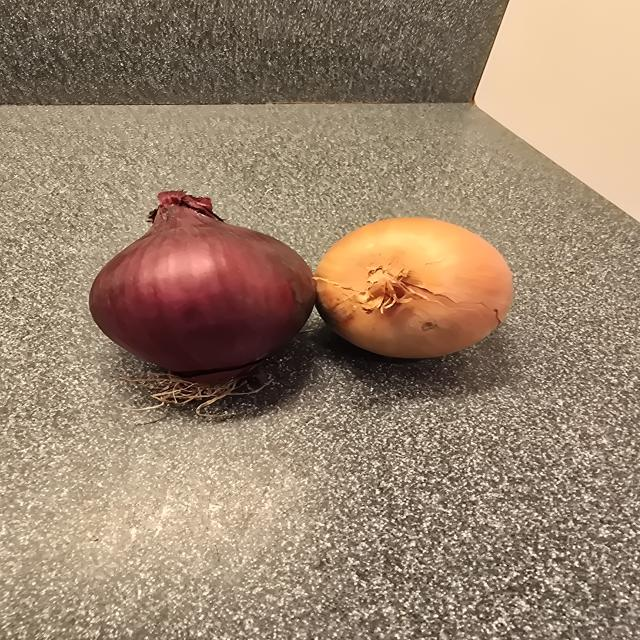Onion: (89, 191, 315, 409), (314, 218, 513, 359)
